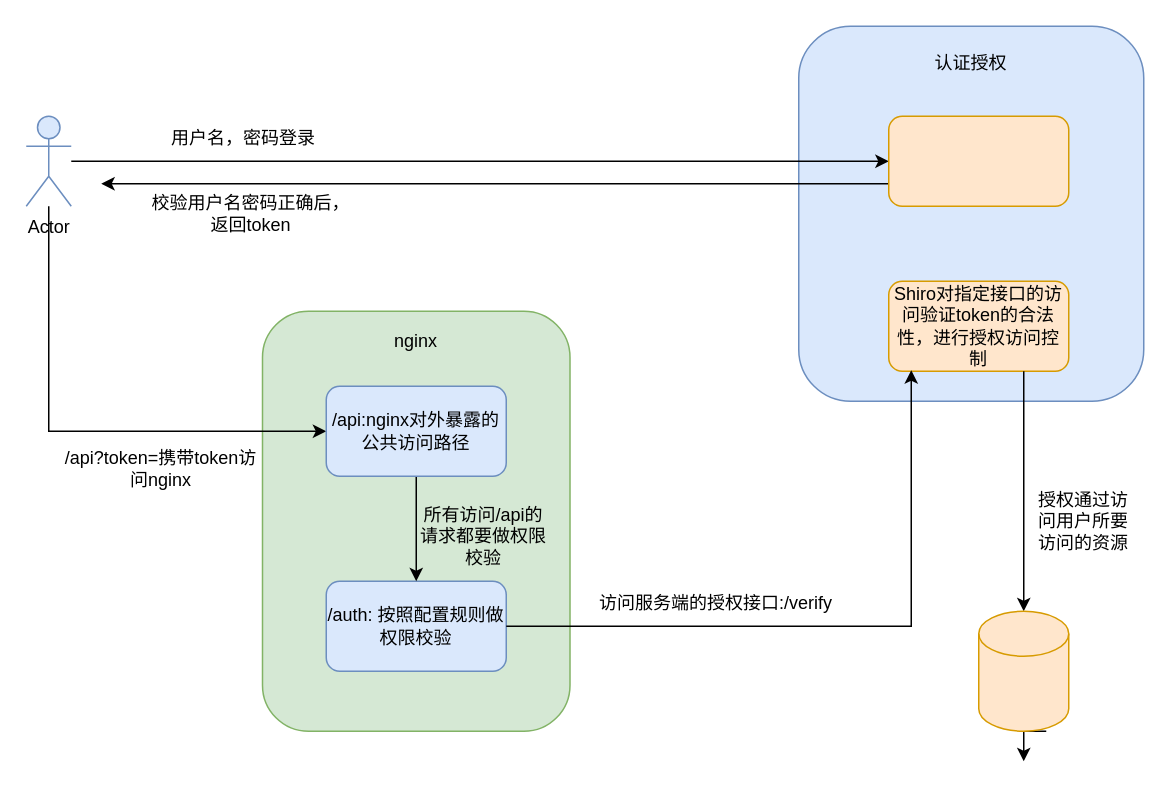
This 1170x800 diagram has some shape labels left out. Each missing label, with the centre of its shape:
JWT登录认证: (x=978, y=160)
资源: (x=1023, y=670)
